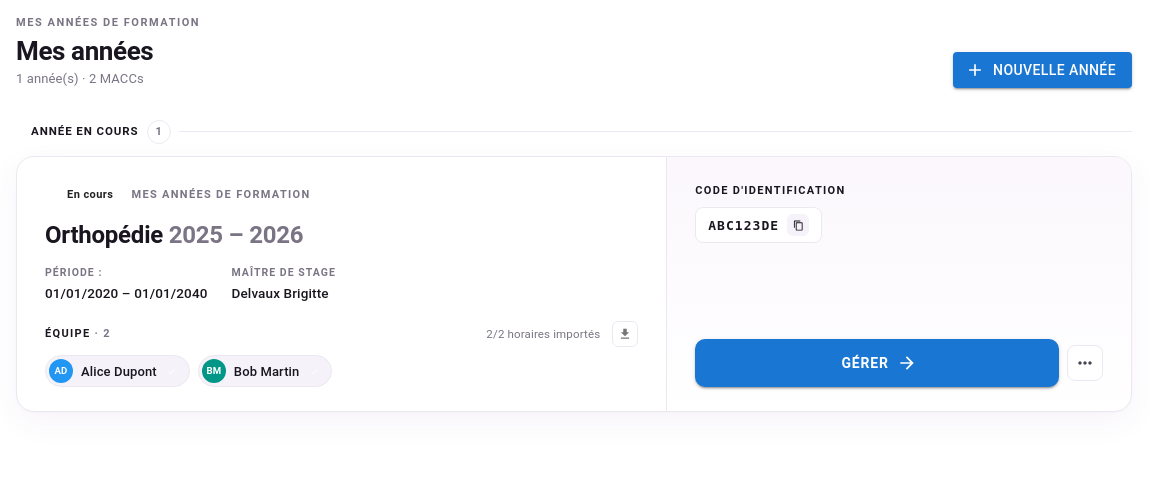
Test: YearCard — grande carte (En cours) › menu : 'Modifier les infos' absent si admin = false
Step 1. Click the button with test id "MoreHorizIcon" → (1085, 363), box [1067,345,1103,381]
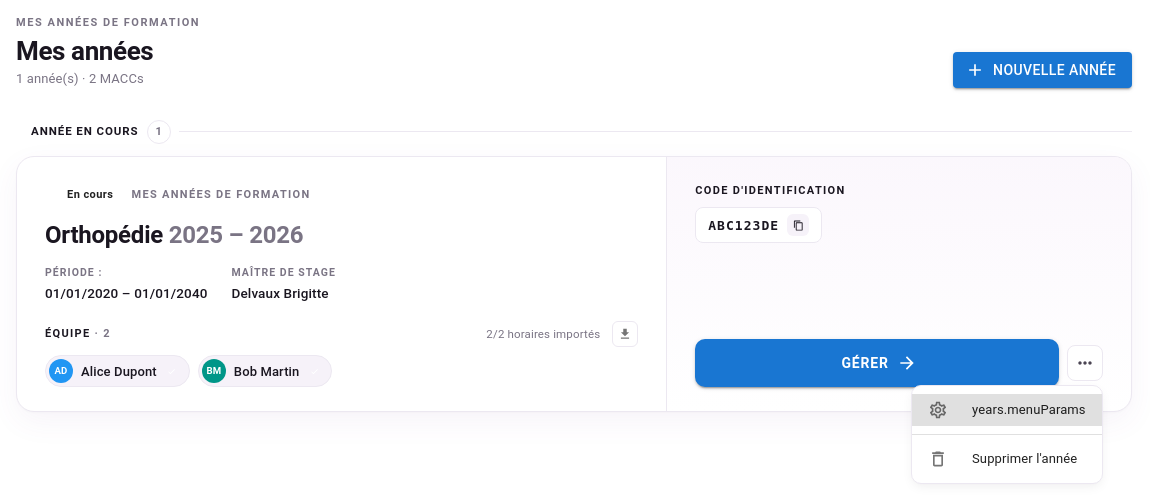
Expected: the text "Supprimer l'année" is shown, [972,449,1086,469]
